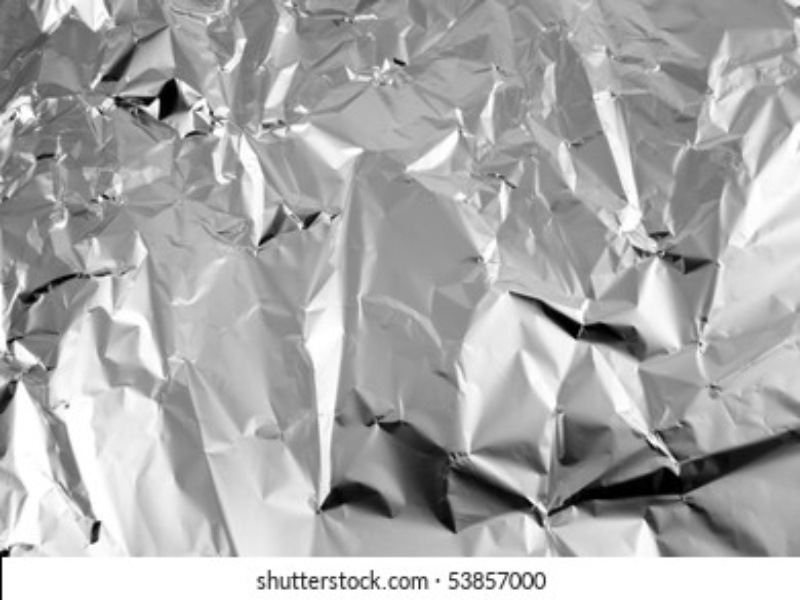Aluminium_Foil: (109, 56, 690, 478)
